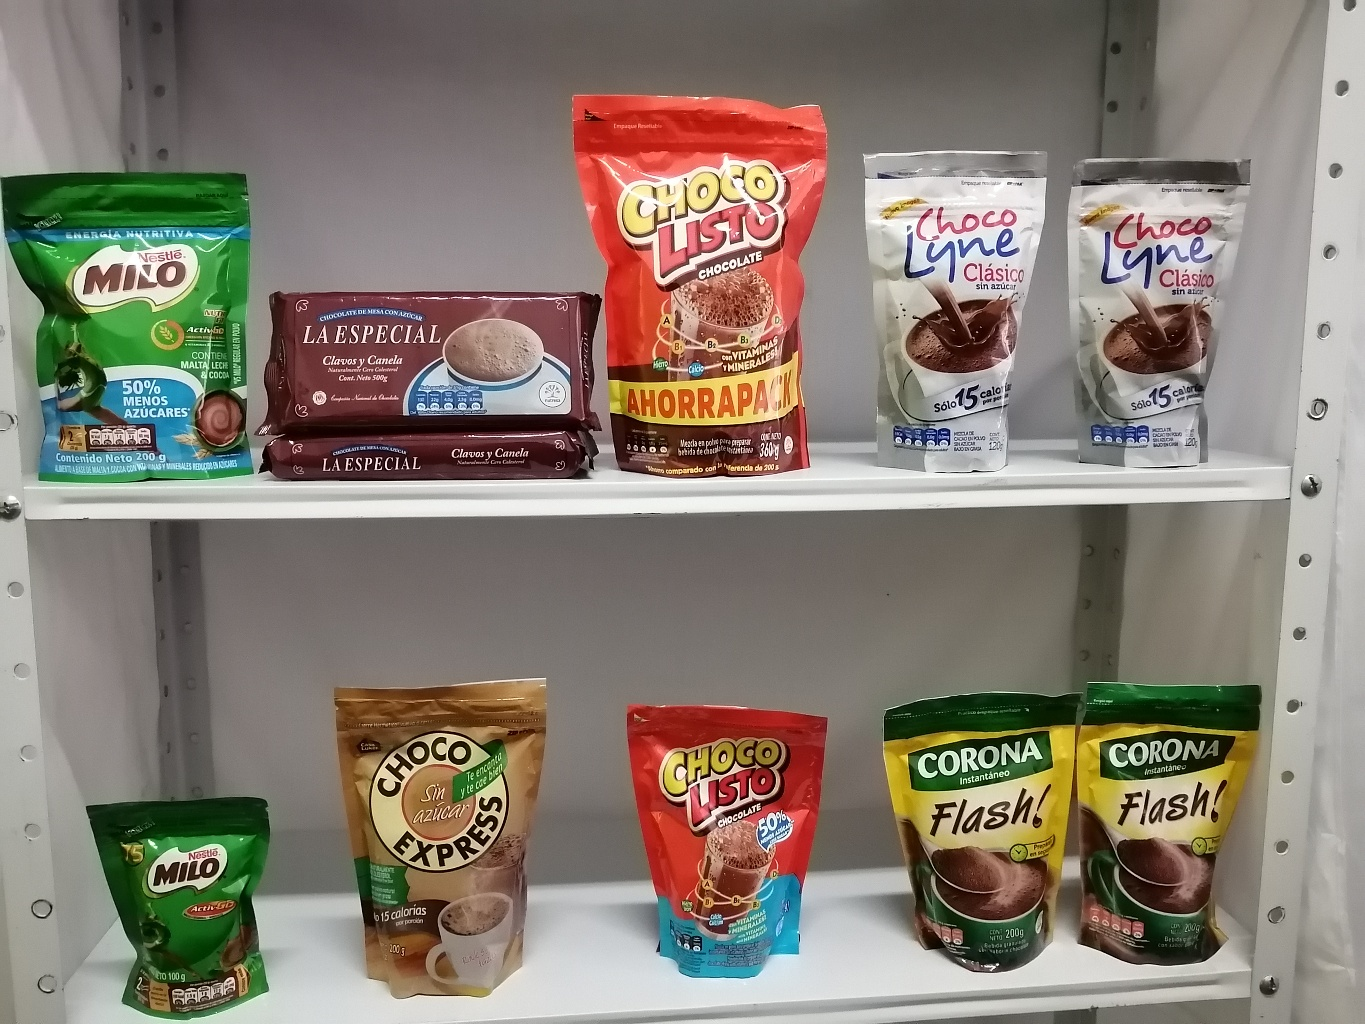COL0170103DYP36000: (575, 88, 841, 474)
COL0170104DYP20000: (621, 695, 830, 984)
COL0170203DYP10000: (87, 790, 283, 1016)
COL0170205DYP20000: (4, 163, 259, 479)
